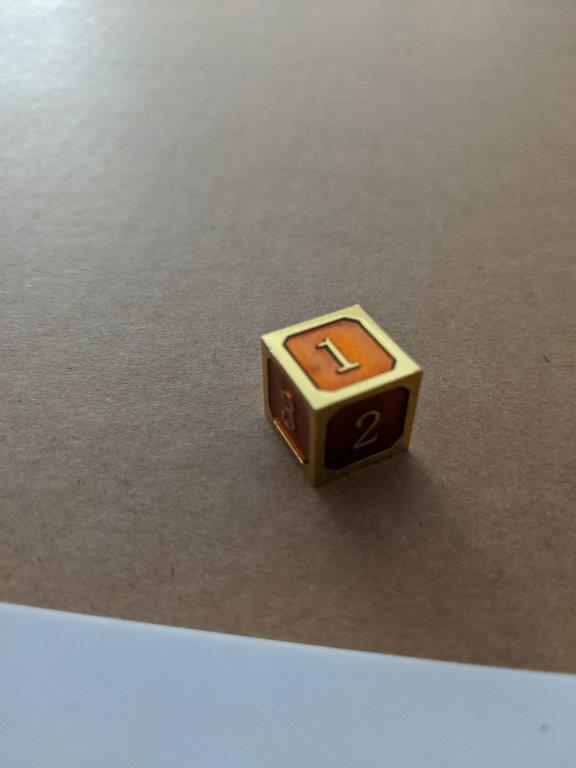d6-1: (262, 300, 423, 490)
